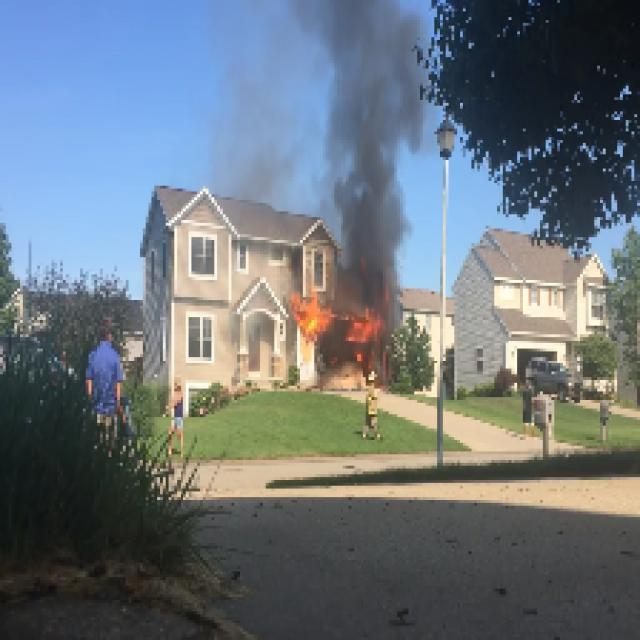Smoke: (337, 0, 401, 290)
